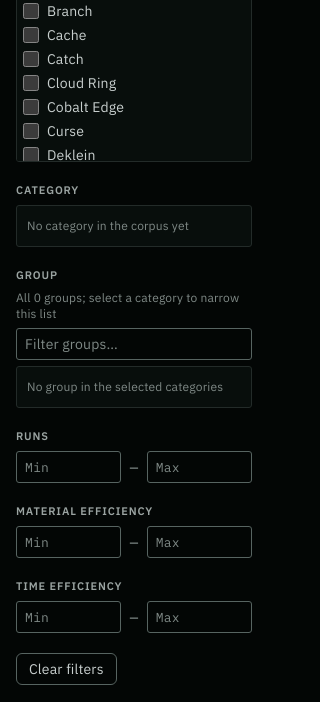
it: FilterRail URL filters › offers Clear filters when ships-only is the sole changed setting
(page scrolled)
Click the button "Clear filters".
click(66, 669)  # box [16,653,117,685]
(page scrolled)
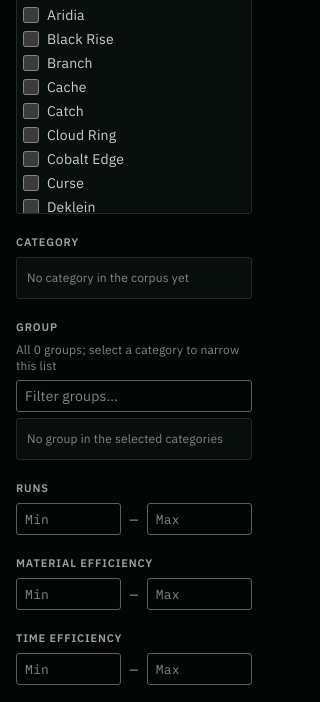
Now the button "Clear filters" is gone
